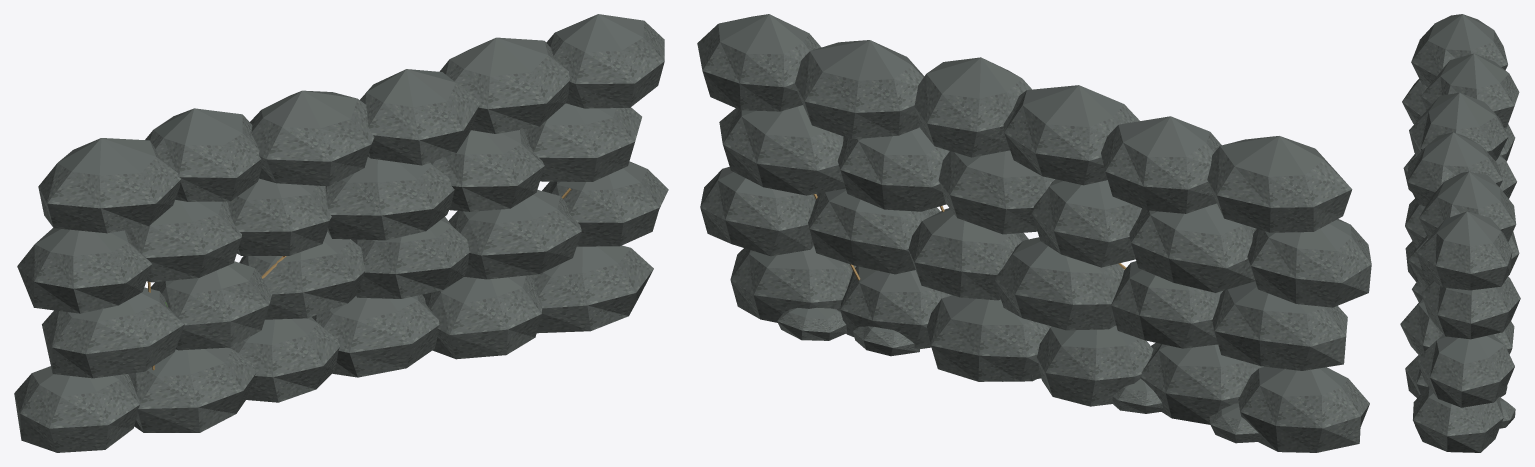
Rendered from en-012_rock_wall_module__straight.obj.
3 views of the same model, side by side, from view 1: azimuth 30°, elevation 25°; view 2: azimuth 150°, elevation 25°; view 3: azimuth 270°, elevation 25° (orthographic). The views are drawn at different scales.
Visible parts, largest first — view 1: en-012_rock_wall_module__straight; view 2: en-012_rock_wall_module__straight; view 3: en-012_rock_wall_module__straight.
Part boxes in pixels (x1,y1,x2,y2): en-012_rock_wall_module__straight: [14, 14, 668, 452]; en-012_rock_wall_module__straight: [697, 14, 1371, 452]; en-012_rock_wall_module__straight: [1400, 14, 1520, 452].
Bounding box in the file's own units: 4.04 × 1.71 × 0.8034.
4 materials, 4 textured.
